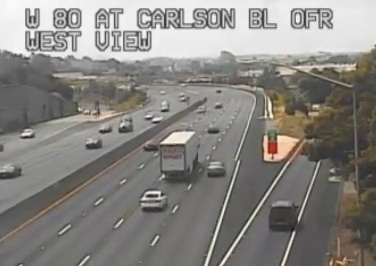car: (269, 201, 296, 228), (140, 190, 166, 209), (207, 161, 224, 176)
truck: (159, 131, 198, 181)
